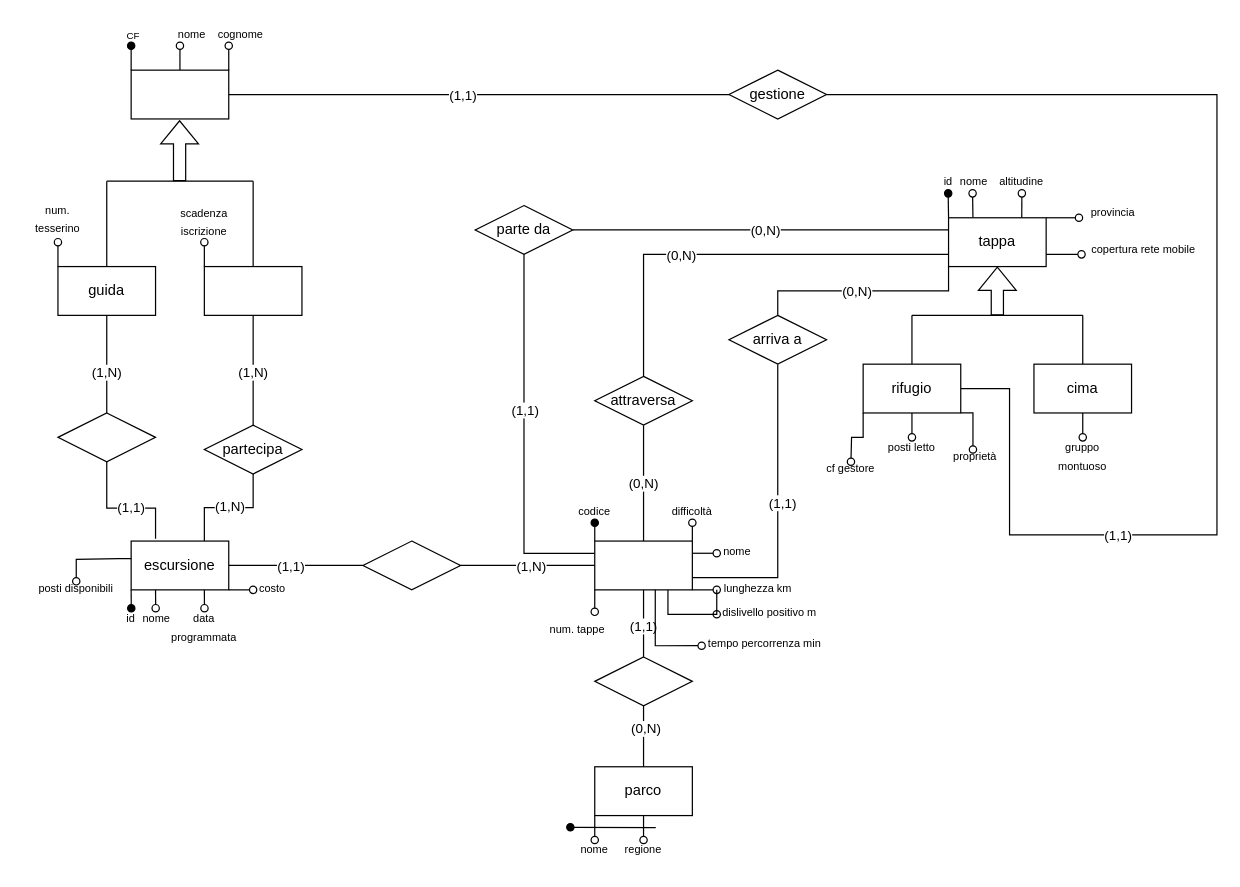
Image size: 1240x887. Some labels were removed from this diagram. The shapes that lost their labels are listed below. From the top down, each one's centre as x and y in pixels, then its label:
the point at 179,94: persona
the point at 252,290: escursionista
the point at 106,437: dirige
the point at 411,565: riguarda
the point at 643,565: sentiero
the point at 643,681: compone
